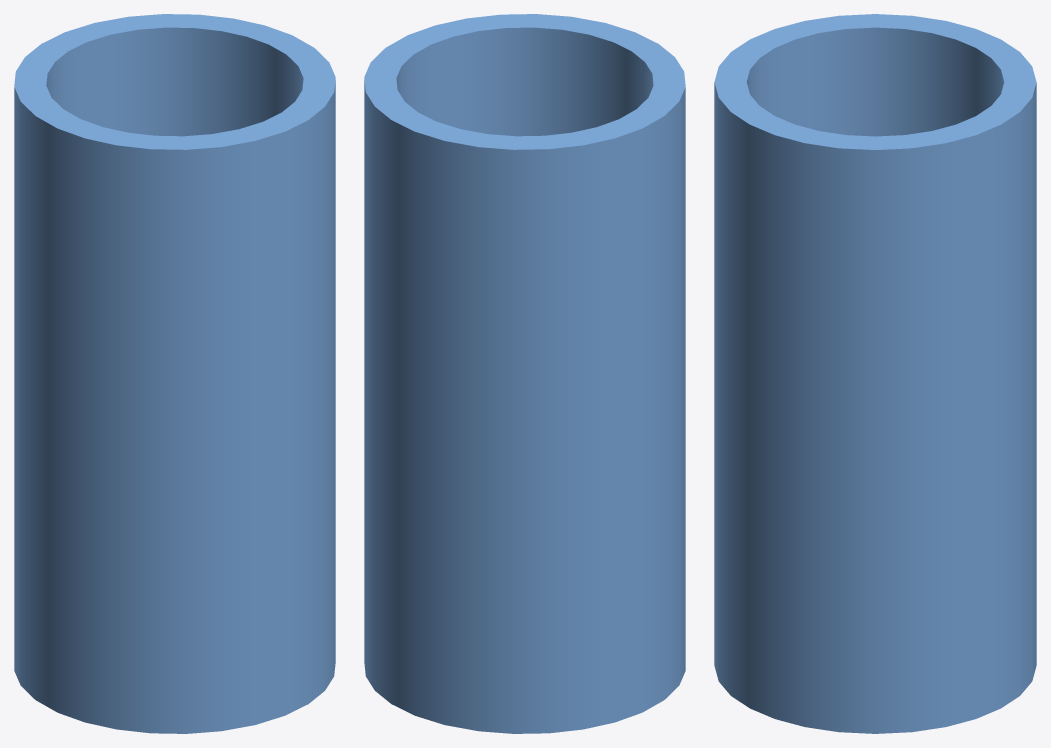
The picture shows the model from 3 angles, left to right: view 1: azimuth 30°, elevation 25°; view 2: azimuth 150°, elevation 25°; view 3: azimuth 270°, elevation 25°; orthographic projection.
Parts seen in each view (by area): view 1: Donut013; view 2: Donut013; view 3: Donut013.
Part boxes in pixels (box(x1,y1,x2,y2)): Donut013: box(14, 14, 335, 733); Donut013: box(364, 14, 685, 733); Donut013: box(714, 14, 1036, 733).
Bounding box in the file's own units: 2.95 × 5.91 × 2.95.
